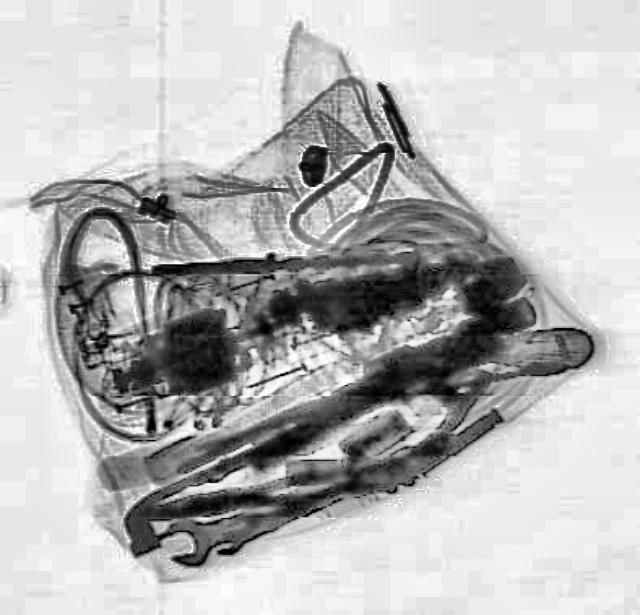Wrench: (150, 477, 324, 572)
